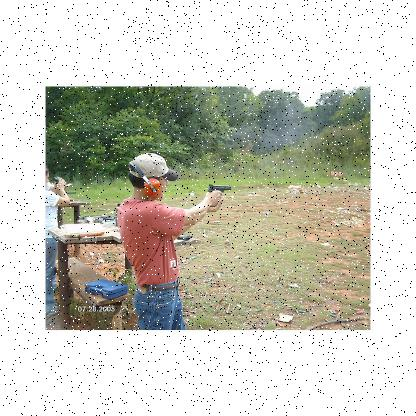gun: (204, 184, 230, 210)
